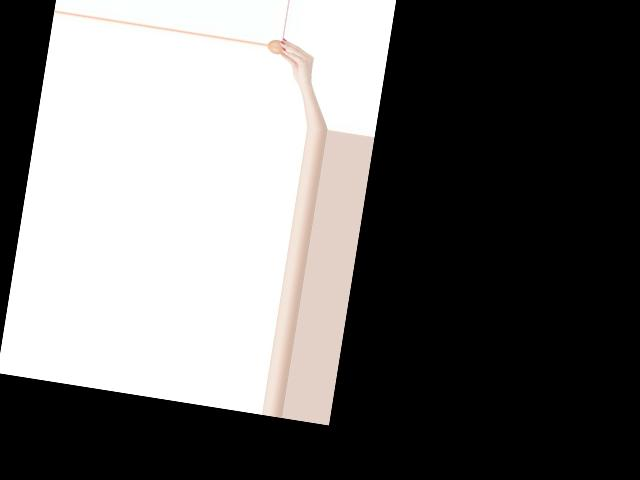egg: (267, 38, 287, 55)
